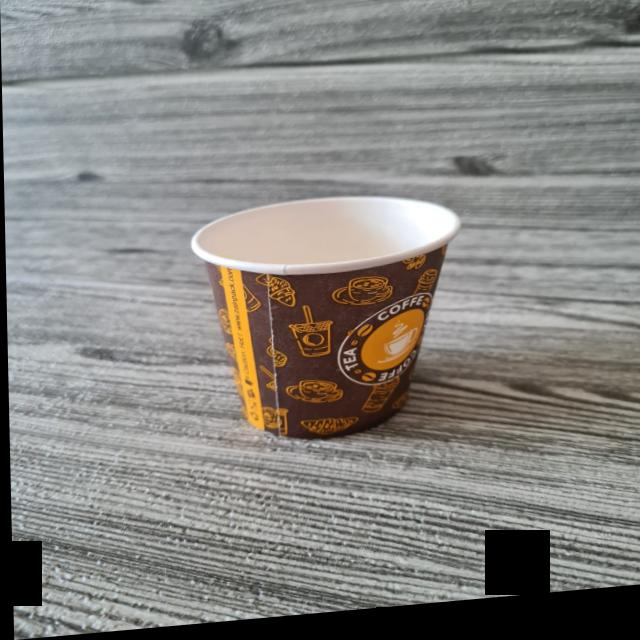cups: (186, 190, 463, 456)
